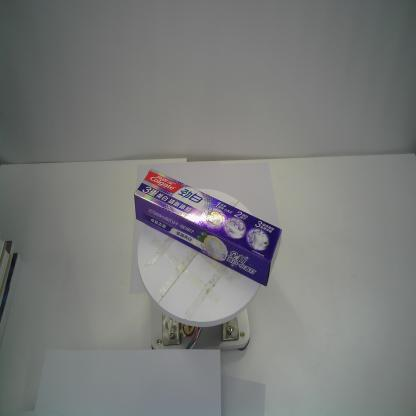Personal Hygiene: (133, 167, 283, 288)
